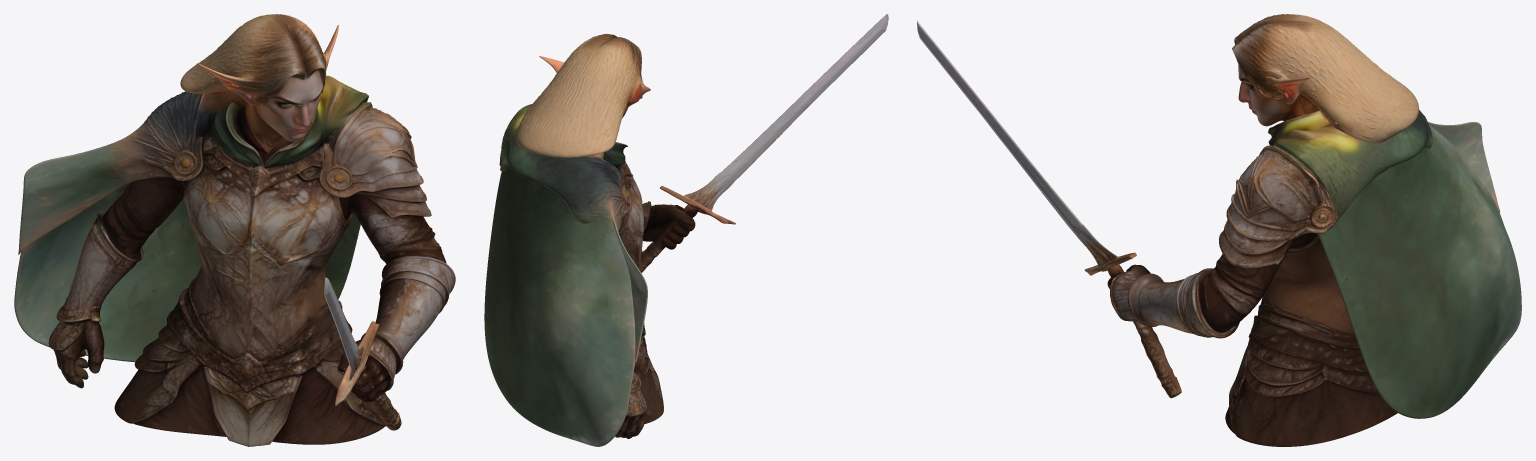
File: elf_warrior_male.glb
3 views of the same model, side by side, from view 1: azimuth 30°, elevation 25°; view 2: azimuth 150°, elevation 25°; view 3: azimuth 270°, elevation 25° (orthographic). The views are drawn at different scales.
Parts seen in each view (by area): view 1: material; view 2: material; view 3: material.
Part boxes in pixels (x1=…): material: x1=14, y1=14, x2=455, y2=446; material: x1=484, y1=14, x2=888, y2=446; material: x1=917, y1=14, x2=1521, y2=446.
Size of the model in its own units: 0.5005 by 0.6882 by 0.9758.
Materials: 1 (1 with a texture image).
